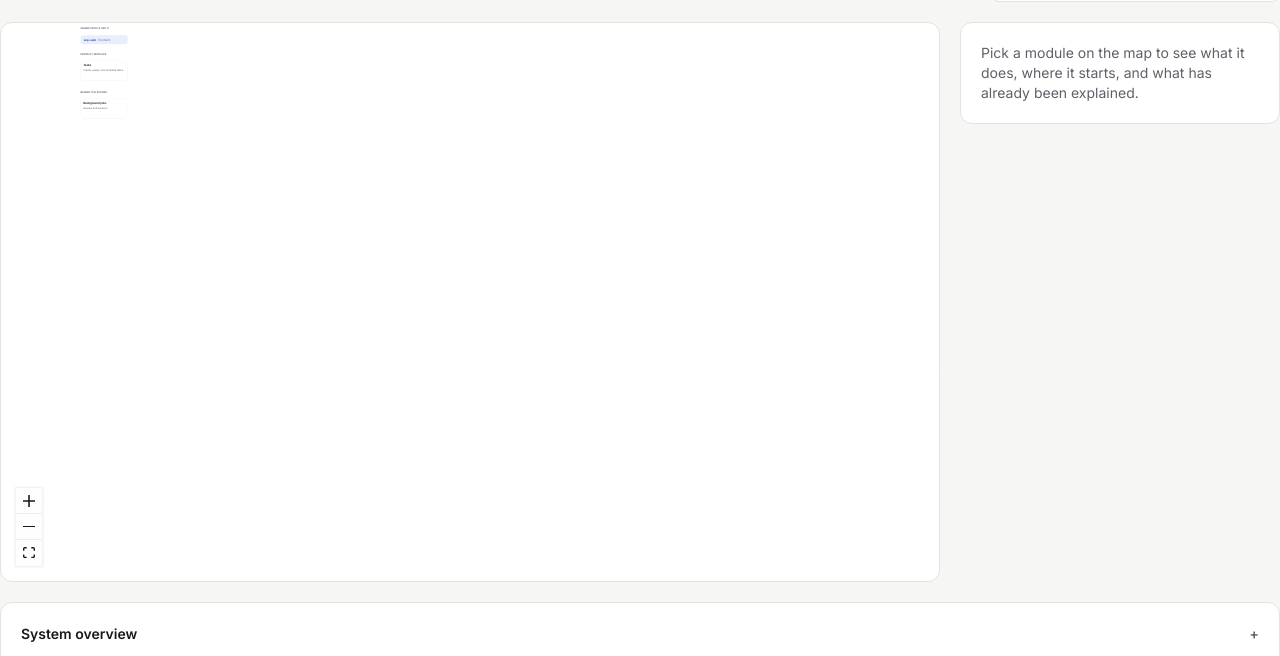
Test: already-explained question opens the saved answer
Click the button "Tasks Create, assign and schedule tasks." at [104, 71], box [80, 61, 128, 80]
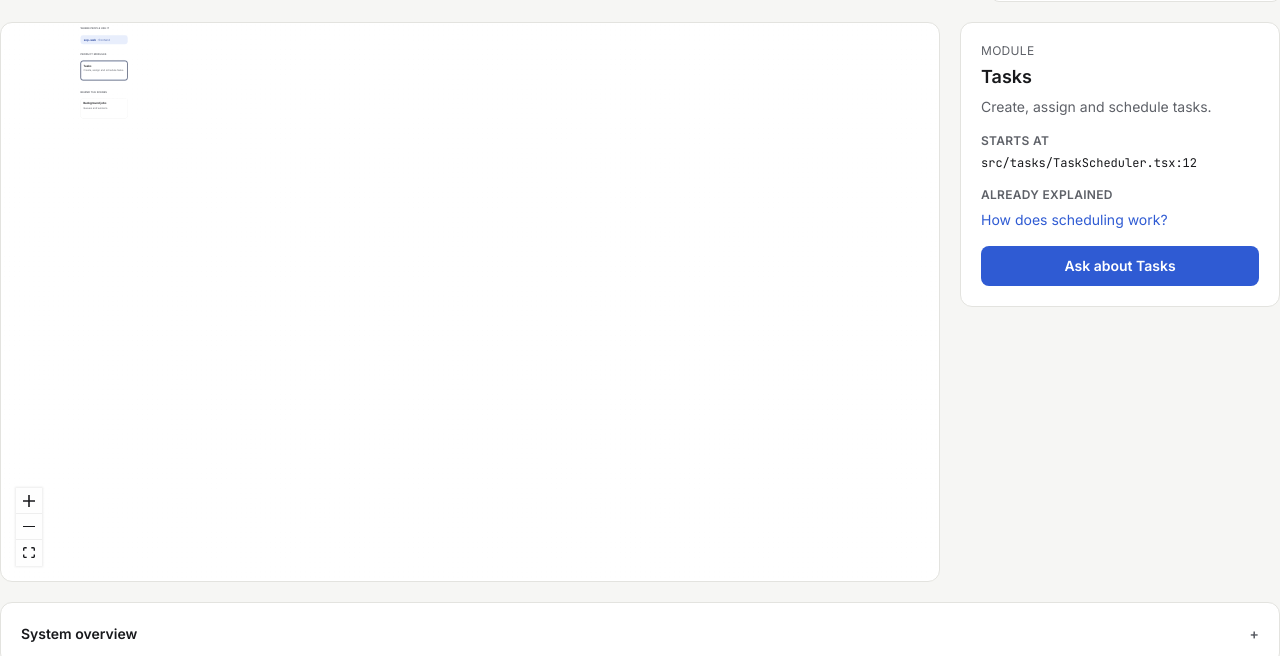
Click the button "How does scheduling work?" at [1074, 220], box [981, 210, 1168, 230]
(page scrolled)
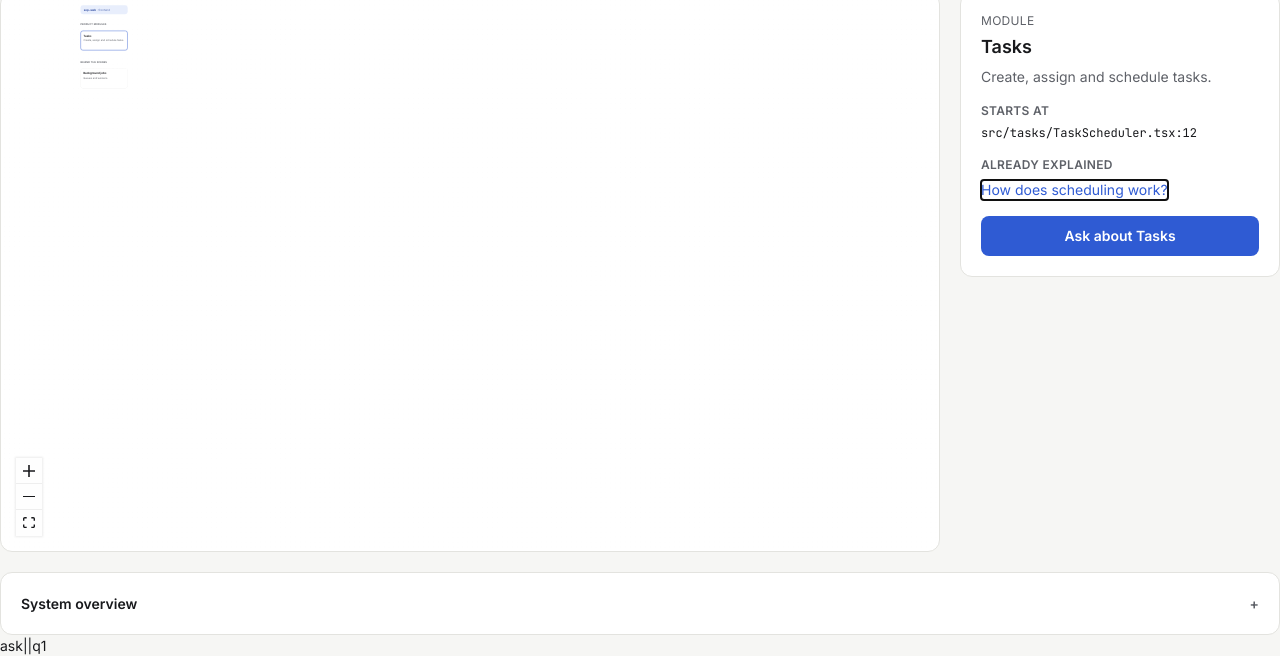
Check: the text with test id "probe" reads "ask||q1", box [0, 637, 23, 654]
